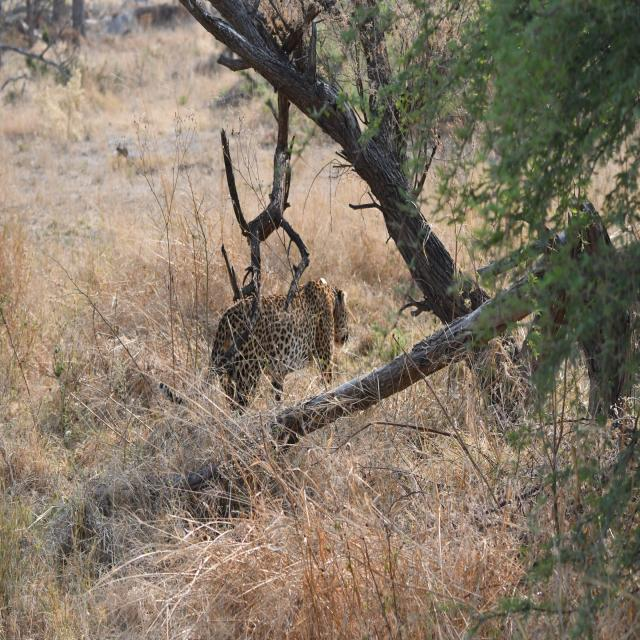Leopard: (175, 279, 341, 419)
